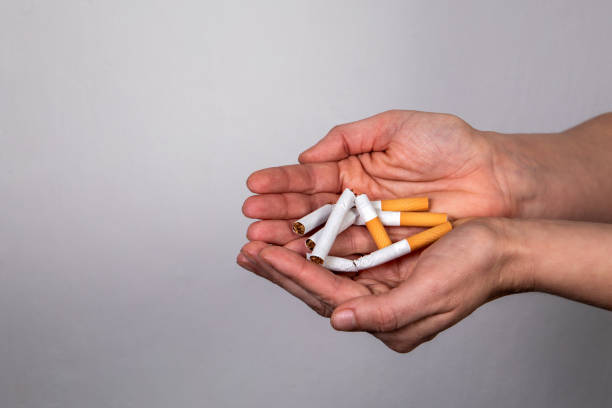cigarette: (352, 220, 453, 272), (309, 187, 356, 265), (304, 209, 360, 251), (354, 193, 393, 250), (292, 201, 337, 236), (378, 211, 451, 227), (371, 196, 430, 212), (323, 255, 356, 274)
